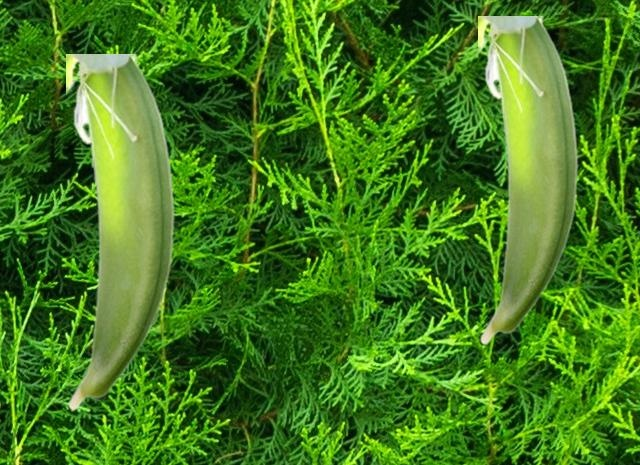pea: (66, 54, 177, 410), (478, 16, 580, 344)
